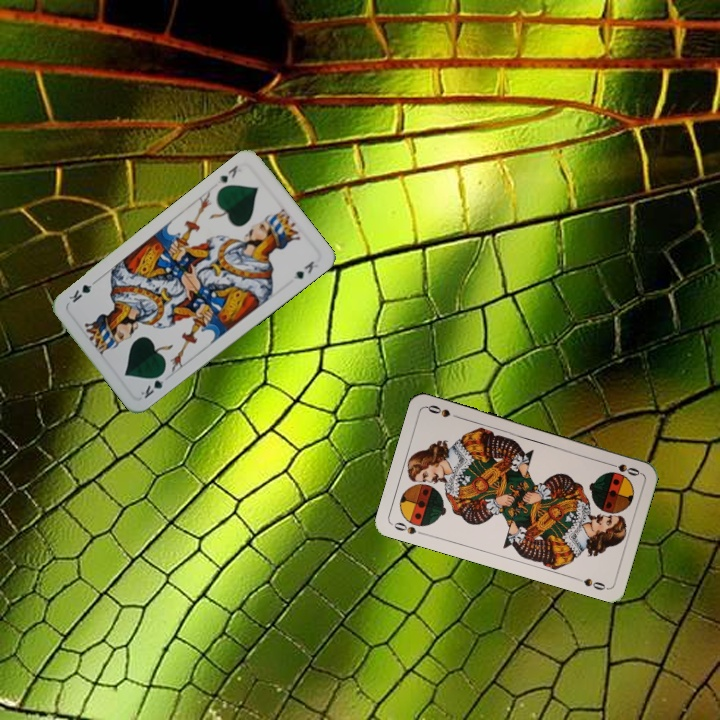GK: (136, 368, 172, 401), (213, 161, 240, 186)
SO: (603, 458, 643, 478), (390, 518, 428, 538)
